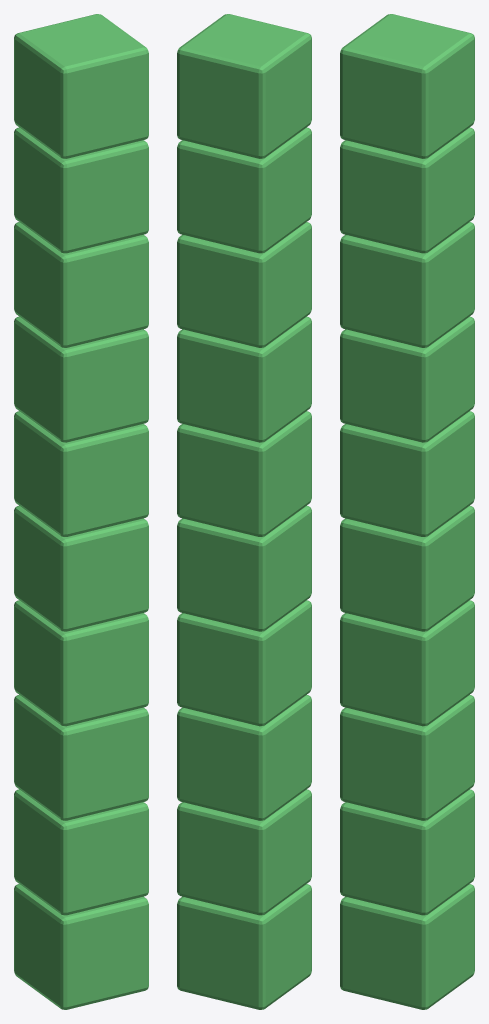
Rendered from base10_rod.glb.
3 renders of one model, left to right at view 1: azimuth 30°, elevation 25°; view 2: azimuth 150°, elevation 25°; view 3: azimuth 330°, elevation 25°, orthographic.
Visible parts, largest first — view 1: base10_rod; view 2: base10_rod; view 3: base10_rod.
Part boxes in pixels (x1=…): base10_rod: x1=14, y1=14, x2=148, y2=1009; base10_rod: x1=177, y1=14, x2=311, y2=1009; base10_rod: x1=340, y1=14, x2=474, y2=1009.
Bounding box in the file's own units: 0.0195 × 0.1995 × 0.0195.
